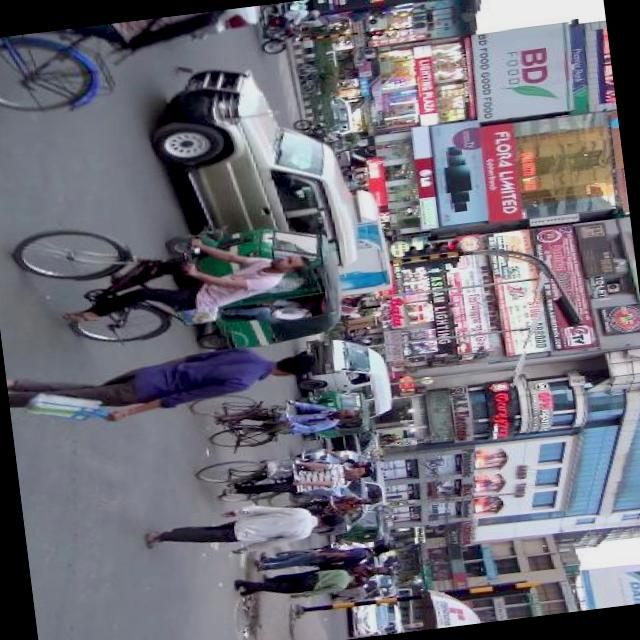car: (344, 598, 396, 637)
motorcycle: (162, 216, 346, 356), (296, 386, 372, 441), (251, 0, 324, 55), (326, 504, 386, 546), (290, 110, 346, 148)
truck: (140, 44, 366, 274), (306, 182, 395, 302), (292, 325, 392, 394)
